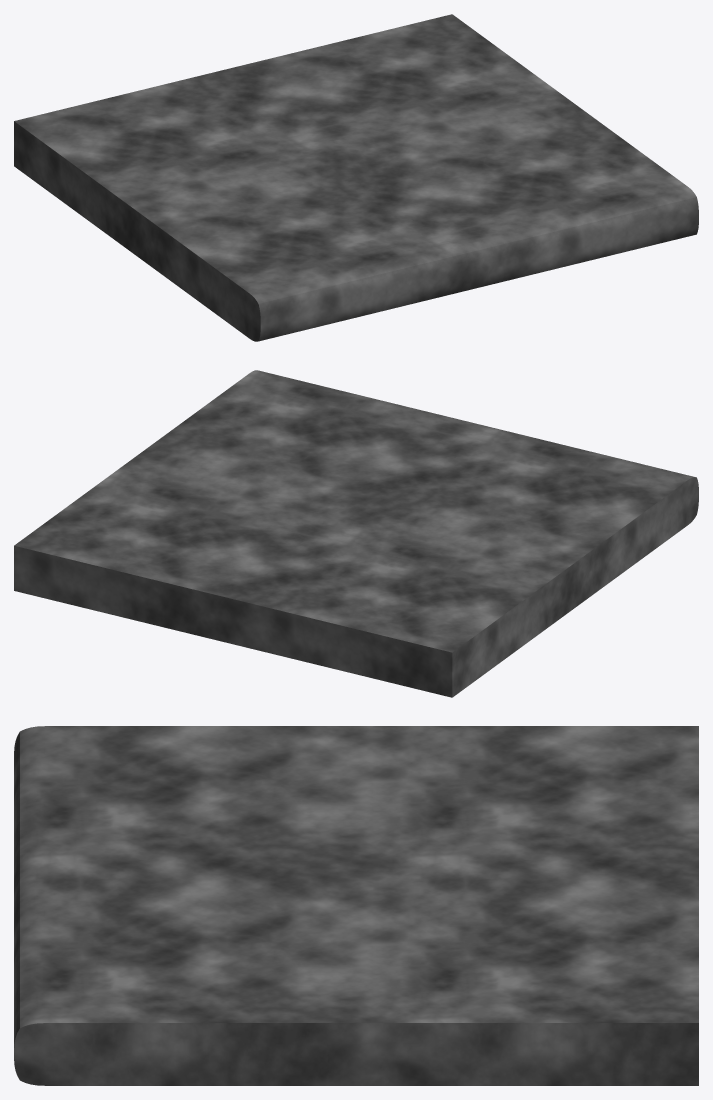
File: Counter.FBX
3 views of the same model, one above another, from view 1: azimuth 30°, elevation 25°; view 2: azimuth 150°, elevation 25°; view 3: azimuth 270°, elevation 25° (orthographic). The views are drawn at different scales.
Parts seen in each view (by area): view 1: Box001; view 2: Box001; view 3: Box001.
Boxes of the visible parts, bbox=[...] form: Box001: bbox=[14, 14, 698, 341]; Box001: bbox=[14, 370, 698, 697]; Box001: bbox=[14, 726, 698, 1085].
Bounding box in the file's own units: 40.46 × 3.99 × 39.45.
1 material, 1 textured.
